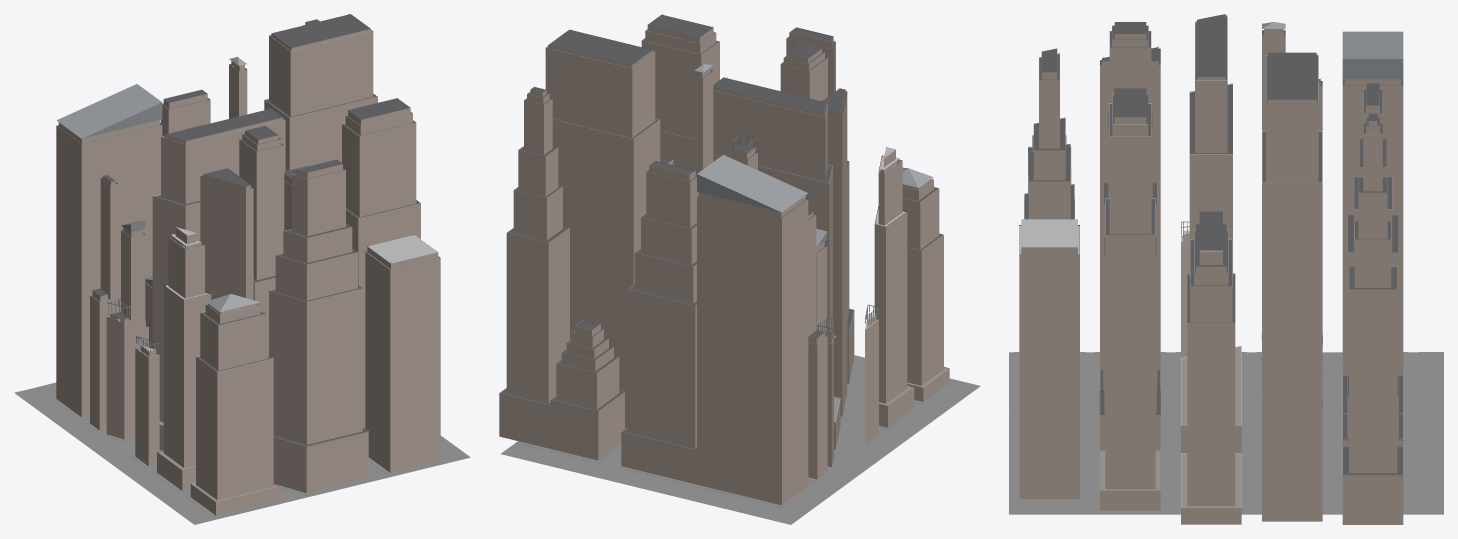
3 renders of one model, left to right at view 1: azimuth 30°, elevation 25°; view 2: azimuth 150°, elevation 25°; view 3: azimuth 270°, elevation 25°, orthographic. The views are drawn at different scales.
Visible parts, largest first — view 1: t13_facade, t13_roof, t13_ground, t13_detail; view 2: t13_facade, t13_roof, t13_ground, t13_detail; view 3: t13_facade, t13_roof, t13_ground, t13_detail.
Boxes of the visible parts, bbox=[...] form: t13_facade: bbox=[56, 22, 440, 515]; t13_roof: bbox=[56, 14, 438, 501]; t13_ground: bbox=[14, 382, 470, 524]; t13_detail: bbox=[56, 25, 439, 501]; t13_facade: bbox=[499, 25, 949, 505]; t13_roof: bbox=[501, 14, 948, 449]; t13_ground: bbox=[501, 355, 980, 524]; t13_detail: bbox=[499, 27, 949, 450]; t13_facade: bbox=[1019, 29, 1403, 524]; t13_roof: bbox=[1019, 14, 1403, 507]; t13_ground: bbox=[1009, 352, 1443, 514]; t13_detail: bbox=[1019, 15, 1403, 507].
Size of the model in its own units: 405 by 459 by 430.
